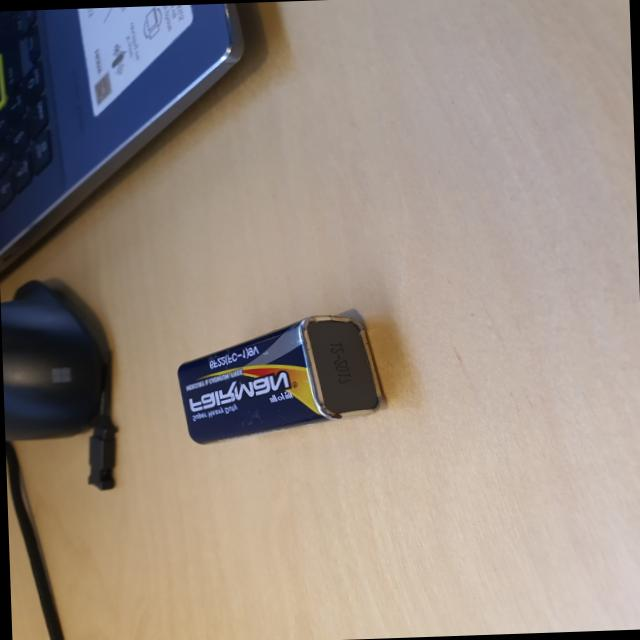battery-etc-etc: (161, 308, 403, 448)
